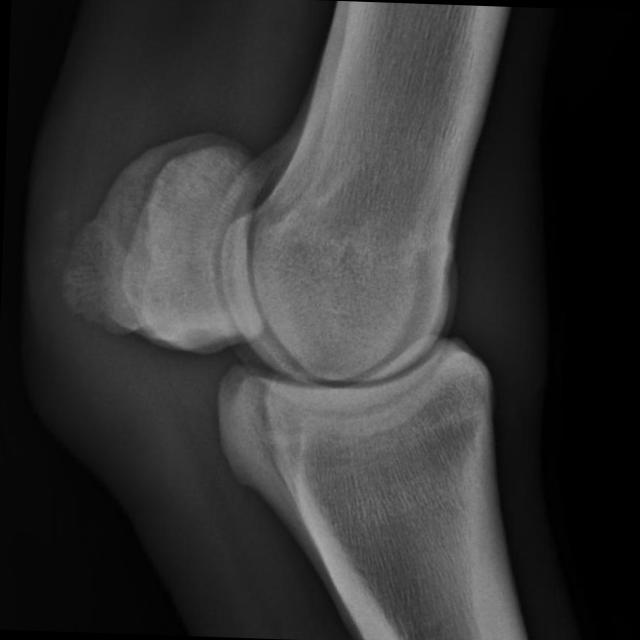bone remodeling: (37, 191, 145, 337)
